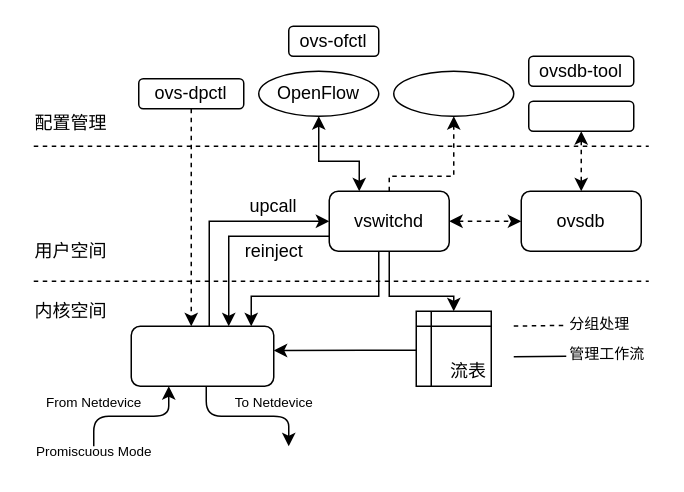
The diagram is 684 pixels wide and 492 high, and some of its shapes have lost their labels. Each missing label, with the centre of its shape:
"Datapath" belongs at (x=202, y=355).
"ovs-vsctl" belongs at (x=580, y=115).
"sFlow" belongs at (x=453, y=93).
